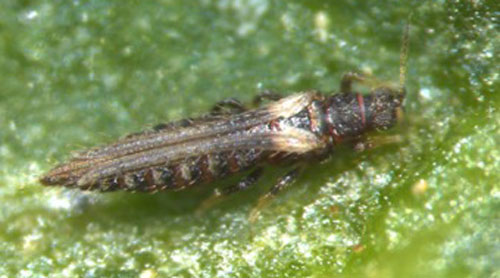Thrips: (59, 71, 409, 222)
